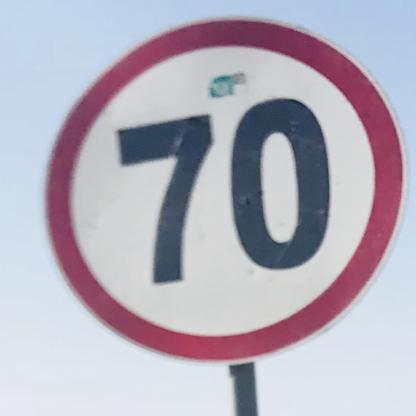Speed Limit -70 kmph-: (40, 18, 403, 362)
